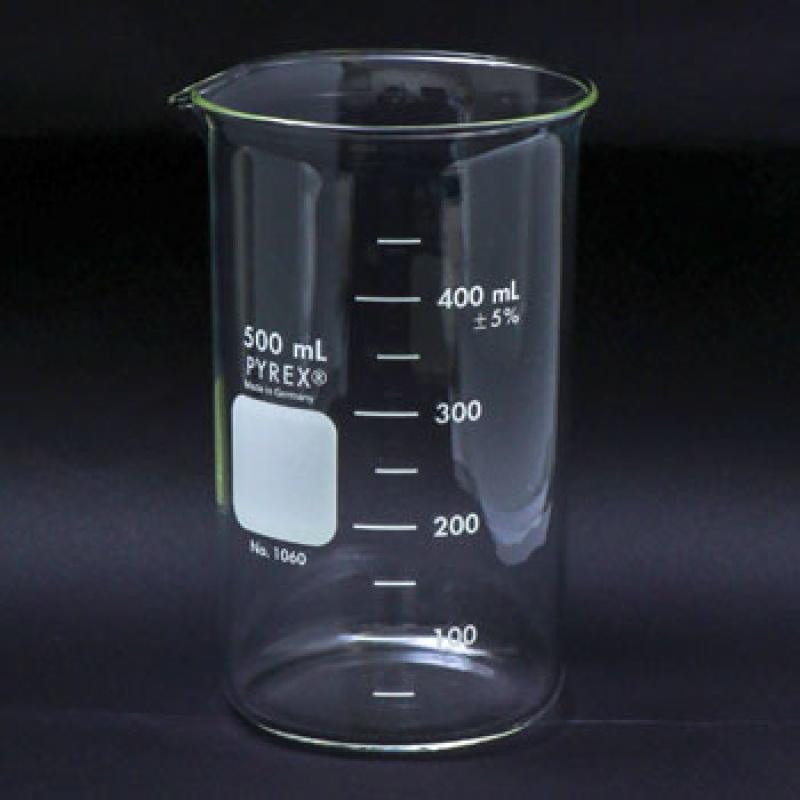Beaker: (161, 54, 610, 756)
